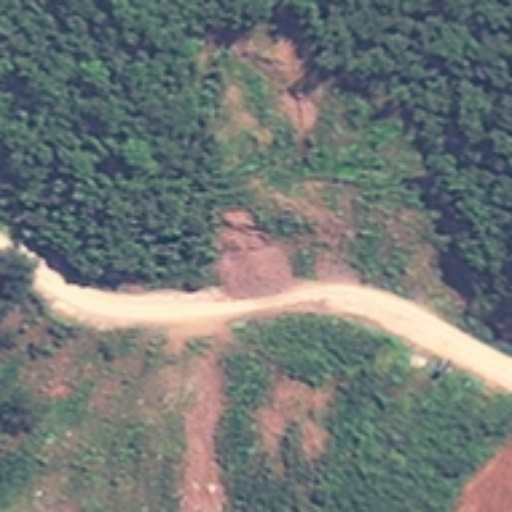landslide: (200, 31, 363, 299), (175, 330, 336, 510)
